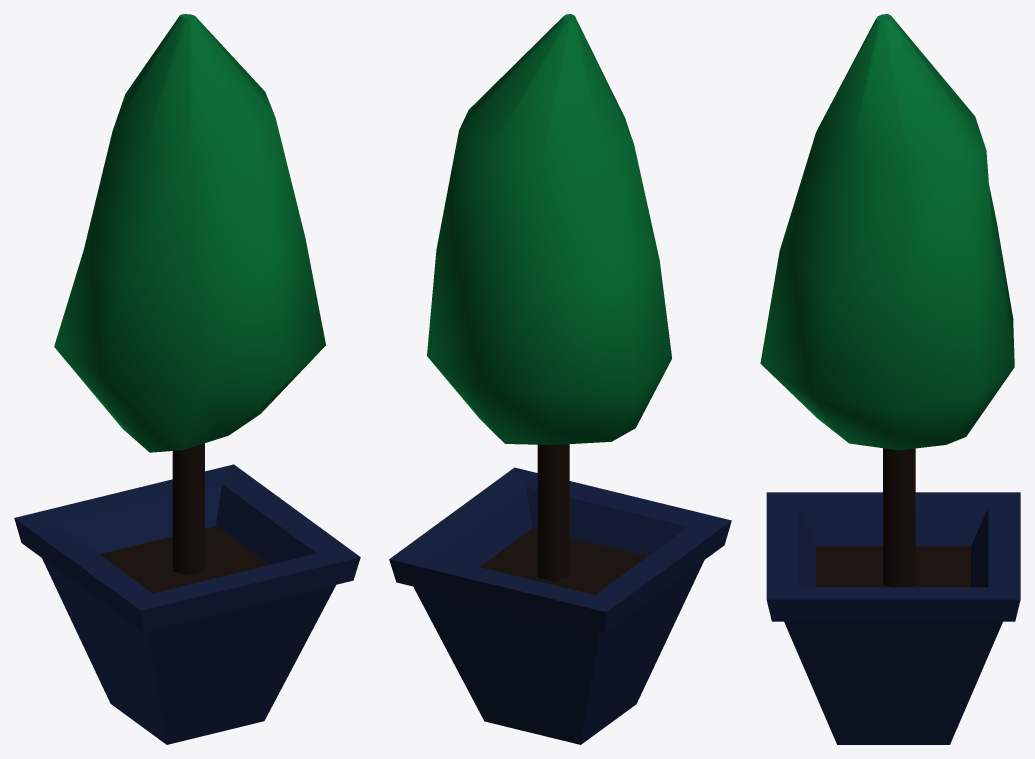
The model's file is planta_pequena_01.FBX.
3 views of the same model, side by side, from view 1: azimuth 30°, elevation 25°; view 2: azimuth 150°, elevation 25°; view 3: azimuth 270°, elevation 25° (orthographic).
Parts seen in each view (by area): view 1: Cylinder006, Box021, Cylinder007; view 2: Cylinder006, Box021, Cylinder007; view 3: Cylinder006, Box021, Cylinder007.
Boxes of the visible parts, box(x1,y1,x2,y2) form: Cylinder006: box(54, 14, 325, 452); Box021: box(14, 464, 360, 744); Cylinder007: box(172, 443, 204, 575); Cylinder006: box(427, 14, 671, 444); Box021: box(389, 467, 731, 744); Cylinder007: box(537, 444, 569, 581); Cylinder006: box(760, 14, 1014, 450); Box021: box(766, 492, 1020, 744); Cylinder007: box(883, 448, 915, 587).
Size of the model in its own units: 11.64 by 35.33 by 11.87.
